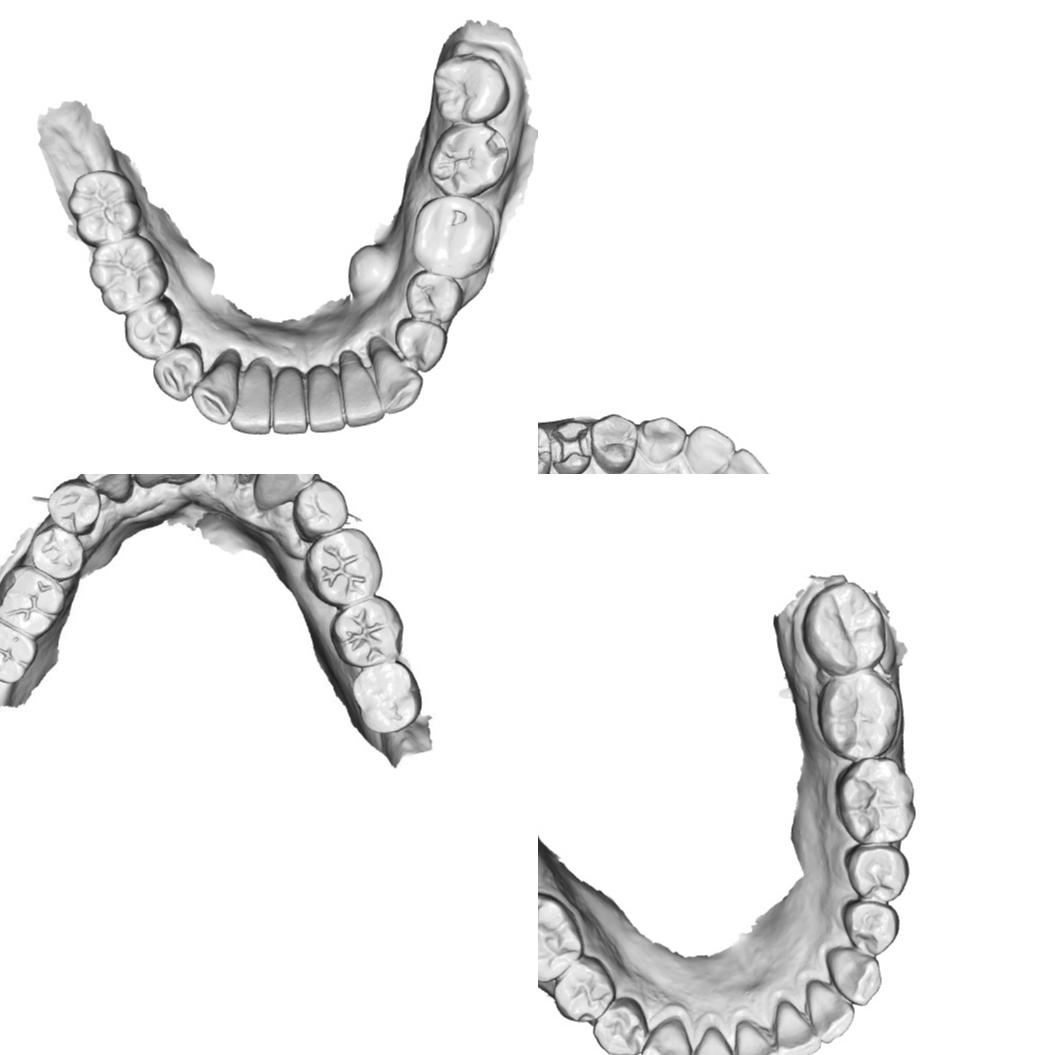canine: (825, 946, 886, 1007), (374, 341, 423, 416), (192, 351, 236, 425), (635, 414, 687, 465), (641, 1014, 688, 1055), (253, 474, 312, 506), (85, 474, 135, 498)
incisor: (228, 365, 276, 437), (803, 980, 855, 1044), (340, 358, 382, 429), (771, 998, 820, 1055), (307, 365, 348, 433), (684, 423, 737, 474), (270, 367, 308, 436), (733, 1018, 782, 1055), (718, 445, 775, 474), (690, 1025, 738, 1055)
inlay: (548, 426, 592, 467)
molar: (803, 582, 887, 673), (836, 753, 913, 849), (819, 668, 897, 761), (411, 194, 497, 278), (425, 123, 512, 197), (90, 236, 167, 315), (66, 168, 140, 246), (432, 50, 510, 122), (336, 598, 401, 665), (538, 888, 582, 983), (354, 663, 417, 729), (0, 570, 62, 635), (315, 539, 376, 600), (0, 620, 38, 688)
premolar: (552, 956, 613, 1028), (843, 842, 910, 904), (122, 298, 184, 359), (293, 478, 345, 542), (842, 900, 900, 957), (589, 411, 638, 474), (594, 998, 648, 1055), (150, 344, 200, 401), (394, 318, 446, 372), (405, 274, 463, 322), (50, 484, 103, 534), (35, 532, 82, 583)
